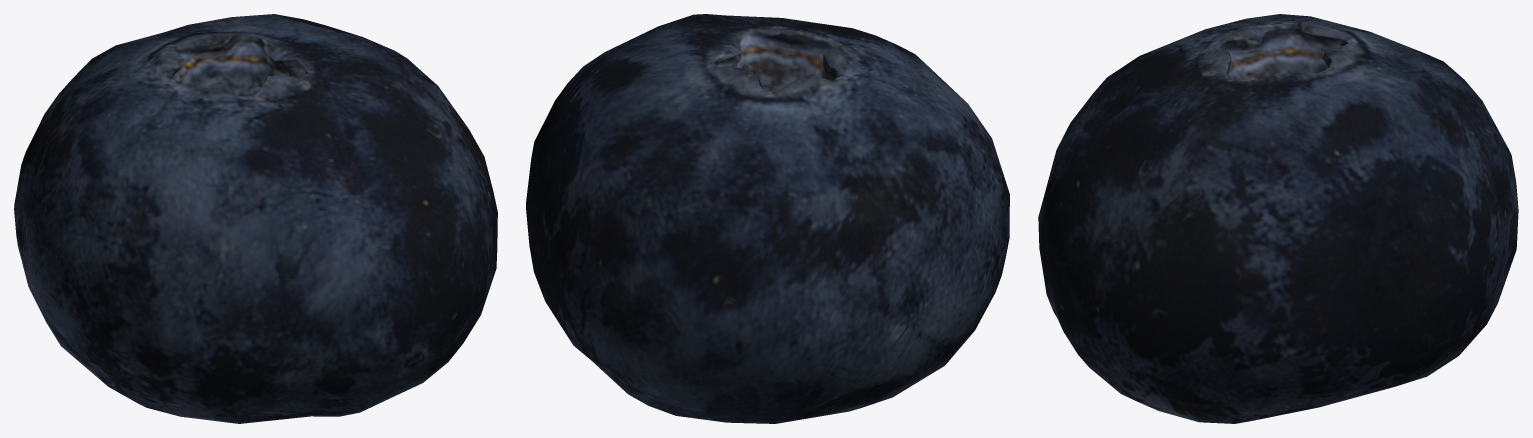
Rendered from blueberry.glb.
3 renders of one model, left to right at view 1: azimuth 30°, elevation 25°; view 2: azimuth 150°, elevation 25°; view 3: azimuth 270°, elevation 25°, orthographic. The views are drawn at different scales.
Visible parts, largest first — view 1: Object_2; view 2: Object_2; view 3: Object_2.
Boxes of the visible parts, <box> form: Object_2: <box>14,14,497,423</box>; Object_2: <box>526,14,1009,423</box>; Object_2: <box>1038,14,1518,423</box>.
Bounding box in the file's own units: 0.0215 × 0.0162 × 0.0216.
1 material, 1 textured.
